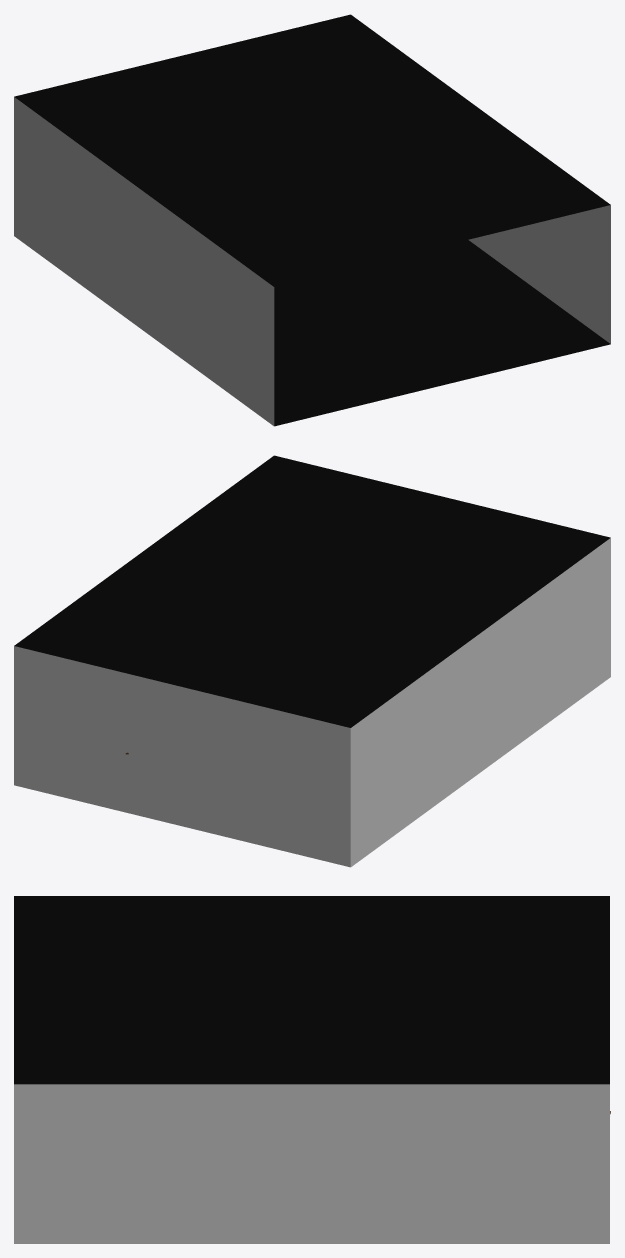
File: acoustic.obj
3 views of the same model, one above another, from view 1: azimuth 30°, elevation 25°; view 2: azimuth 150°, elevation 25°; view 3: azimuth 270°, elevation 25° (orthographic). The views are drawn at different scales.
Visible parts, largest first — view 1: BackWall; view 2: BackWall; view 3: BackWall.
Part boxes in pixels (<box>): BackWall: <box>14,14,610,426</box>; BackWall: <box>14,455,610,867</box>; BackWall: <box>14,896,609,1243</box>.
Size of the model in its own units: 12.65 by 5 by 16.94.
